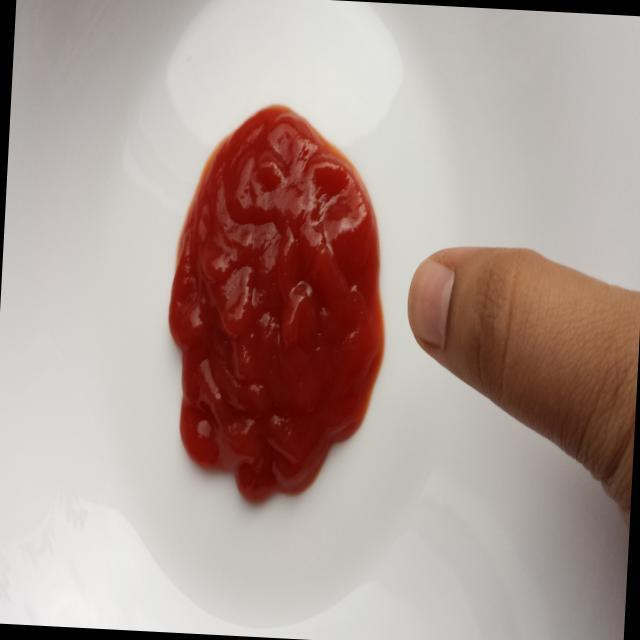Sauce: (150, 65, 392, 532)
